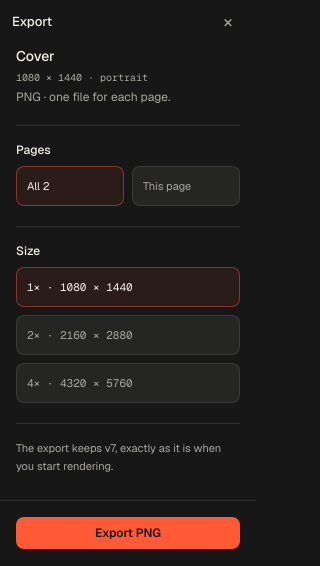
Scenario: exporting from the editor › exports every page by default and offers one download per file
Expected: the heading "Cover" is shown, [16,47,55,65]
Expected: the text "1080 × 1440 · portrait" is shown, [16,71,148,84]
Step 1. Click the button "Export PNG" → (128, 533), box [16,517,240,549]
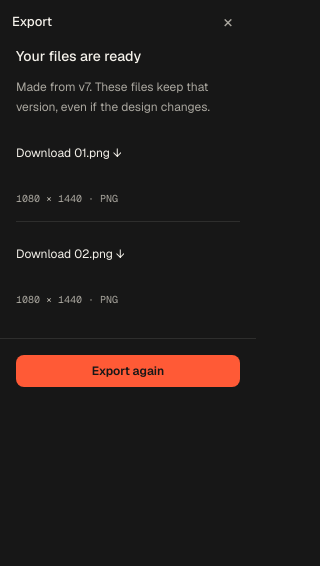
Result: the heading "Your files are ready" is shown at [16,47,141,65]
Result: the text "Made from v7" is shown at [16,78,240,117]
Result: the links read "Download 01.png ↓", "Download 02.png ↓", in this order at [16,145,122,161]; [16,246,124,262]
